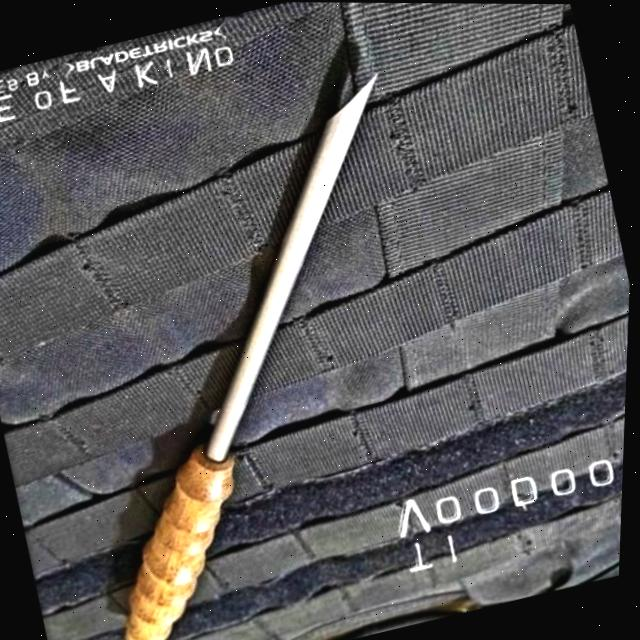ice pick: (6, 66, 501, 640)
